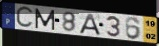3: (105, 15, 121, 38)
6: (125, 16, 142, 41)
8: (61, 11, 78, 33)
A: (78, 13, 102, 36)
C: (15, 5, 35, 30)
M: (34, 7, 56, 32)
